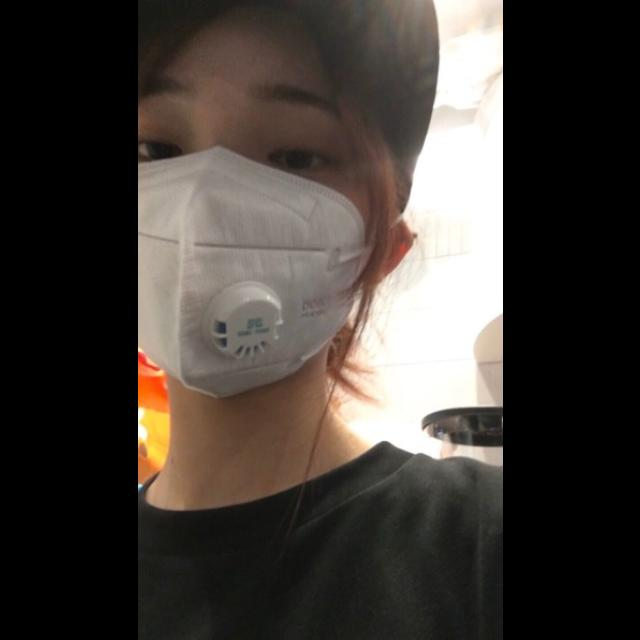masks: (137, 150, 385, 418)
